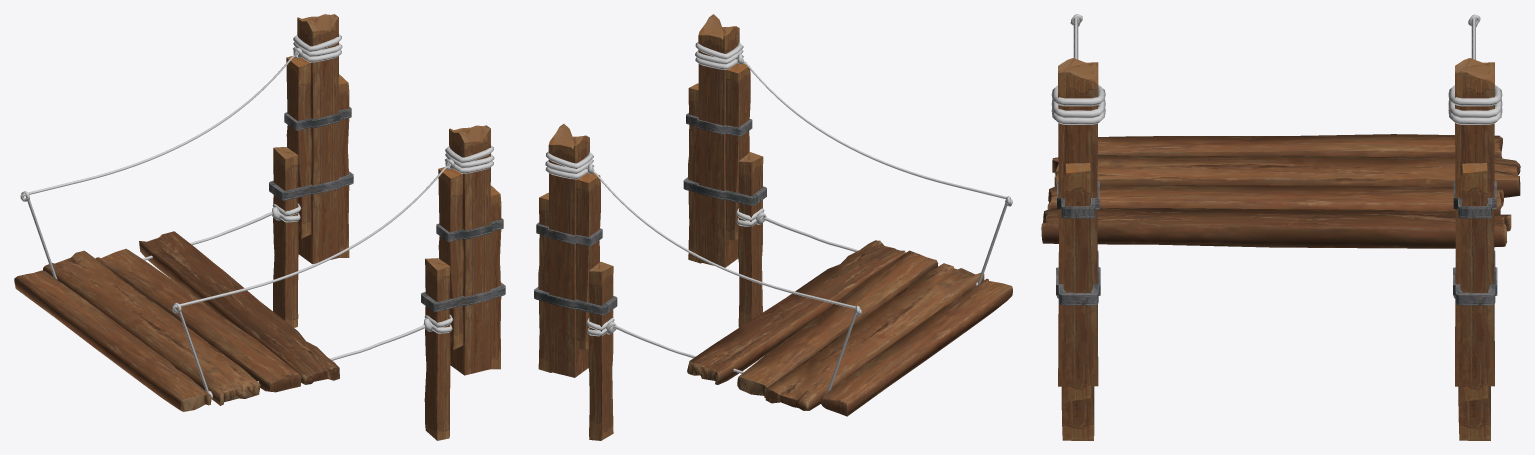
Rendered from SM_Farm_Bridge_End_01.fbx.
3 renders of one model, left to right at view 1: azimuth 30°, elevation 25°; view 2: azimuth 150°, elevation 25°; view 3: azimuth 270°, elevation 25°, orthographic. The views are drawn at different scales.
Visible parts, largest first — view 1: SM_Farm_Bridge_End_01_LOD0; view 2: SM_Farm_Bridge_End_01_LOD0; view 3: SM_Farm_Bridge_End_01_LOD0.
Part boxes in pixels (bbox=[...]): SM_Farm_Bridge_End_01_LOD0: bbox=[14, 14, 505, 440]; SM_Farm_Bridge_End_01_LOD0: bbox=[534, 14, 1012, 440]; SM_Farm_Bridge_End_01_LOD0: bbox=[1041, 14, 1520, 440].
Bounding box in the file's own units: 338 × 297 × 328.
